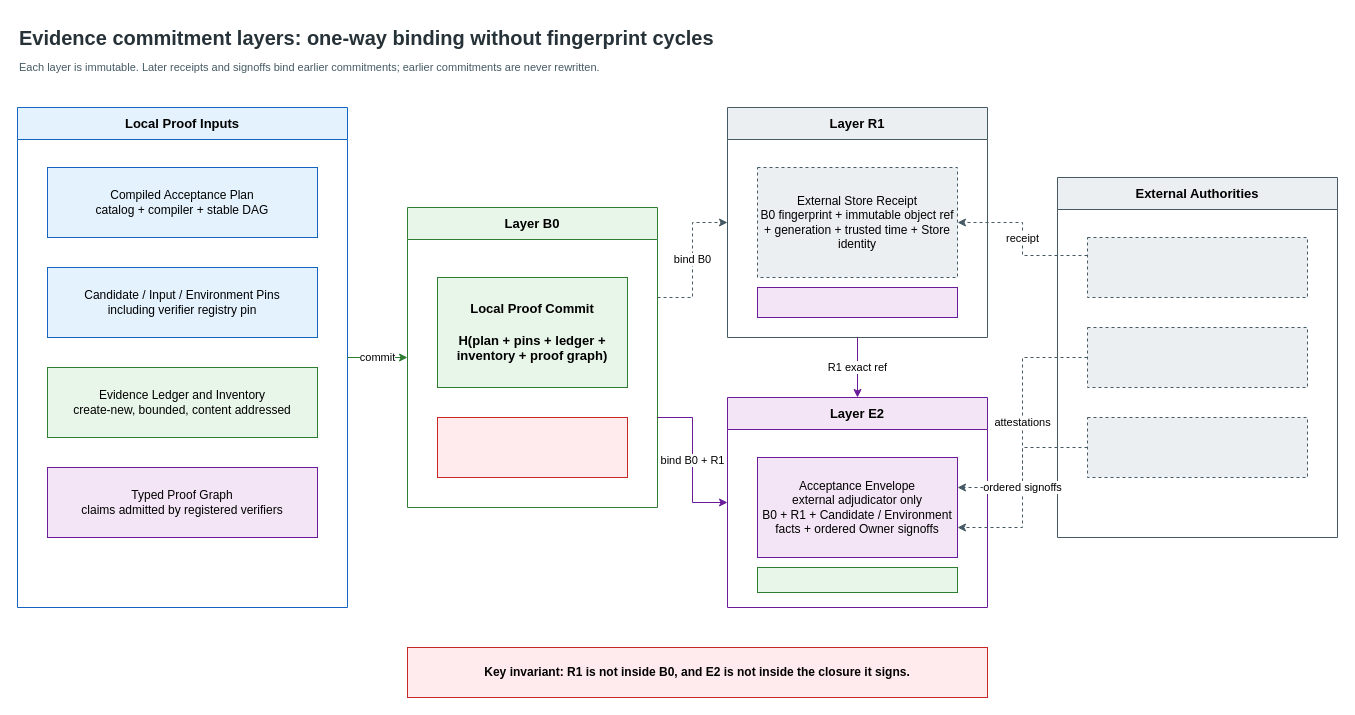
This 1355x715 diagram has some shape labels left out. Here are the shapes that lost their labels. From the top down, the centre of each, then its label:
At (x=1197, y=267): "Evidence Store Authority".
At (x=857, y=302): "Signed by Evidence Store Runner cannot self-issue".
At (x=1197, y=357): "Candidate / Environment Authorities".
At (x=532, y=447): "No Store receipt No Owner signoff No final status".
At (x=1197, y=447): "Product / Runtime / Security / QA Owners".
At (x=857, y=579): "Formal adjudication input".
